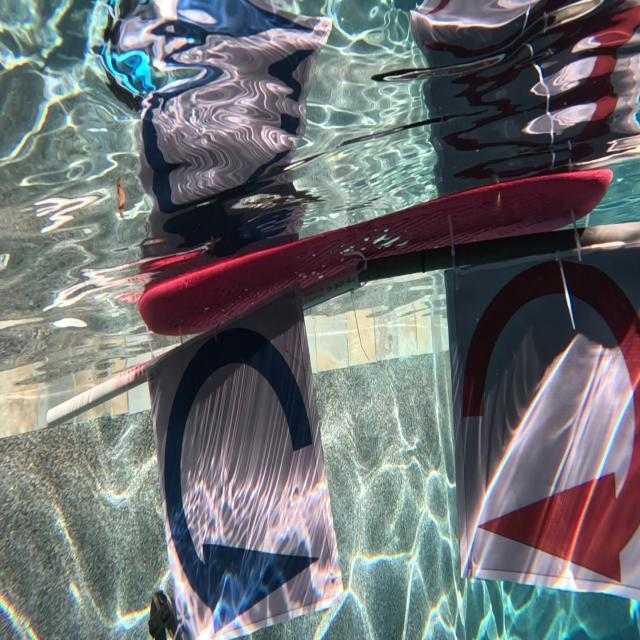blue_side: (156, 318, 319, 622)
red_side: (451, 272, 633, 592)
